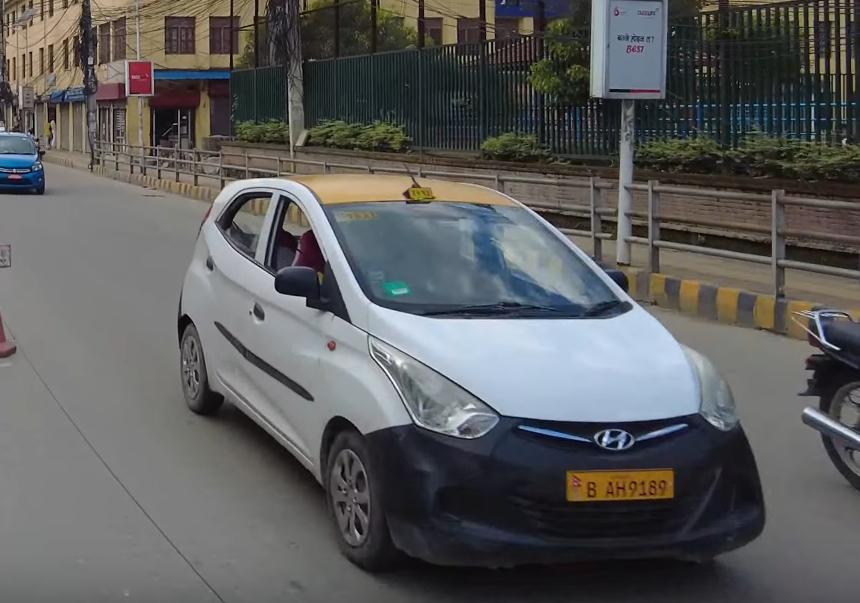taxi: (155, 157, 773, 591)
